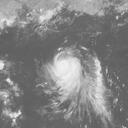cyclone: (46, 48, 100, 104)
